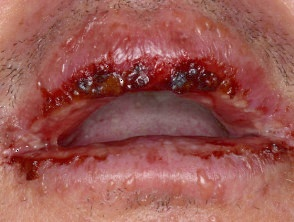SJS-TEN: (0, 2, 294, 135), (0, 128, 293, 222)
